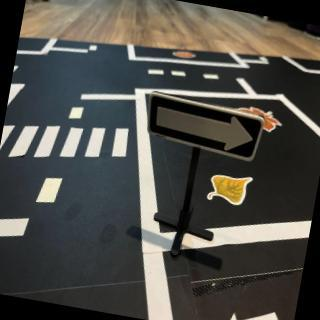road_crosswalk: (1, 102, 136, 186)
road_oneway: (220, 290, 289, 320)
sign_oneway_right: (144, 93, 271, 165)
